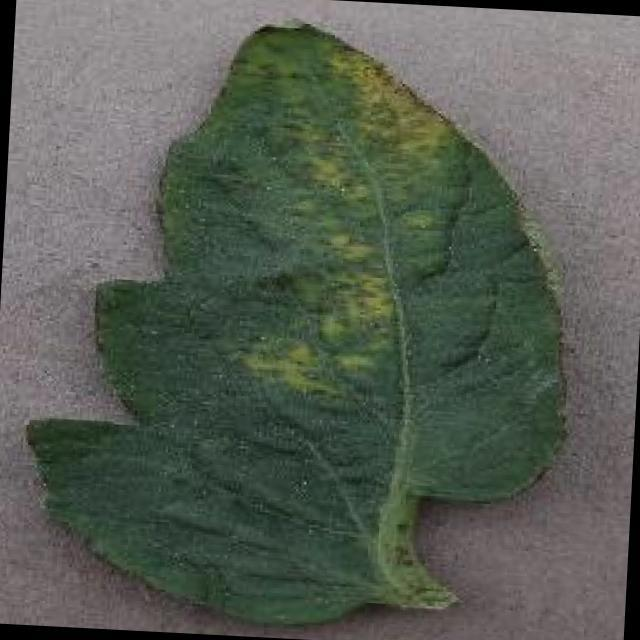Tomato bacterial spot leaf: (11, 0, 594, 640)
